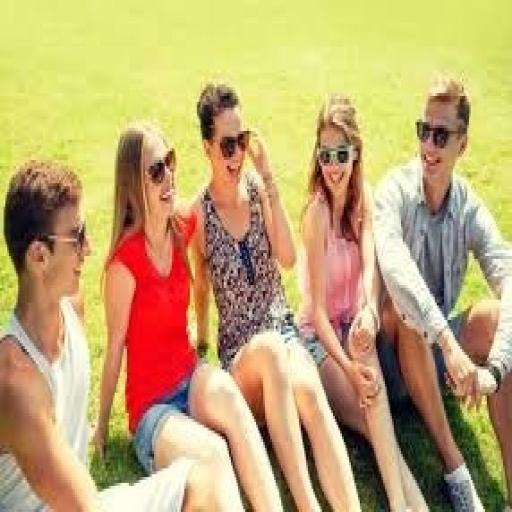sitting: (2, 70, 508, 509), (0, 154, 218, 509), (186, 79, 362, 509), (91, 119, 285, 509), (371, 73, 510, 509), (295, 90, 430, 509)
